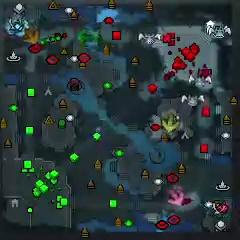x1: (169, 188, 185, 206)
x2: (162, 113, 179, 132)
x3: (11, 18, 29, 36)
x4: (78, 29, 95, 46)
x5: (24, 29, 40, 44)
